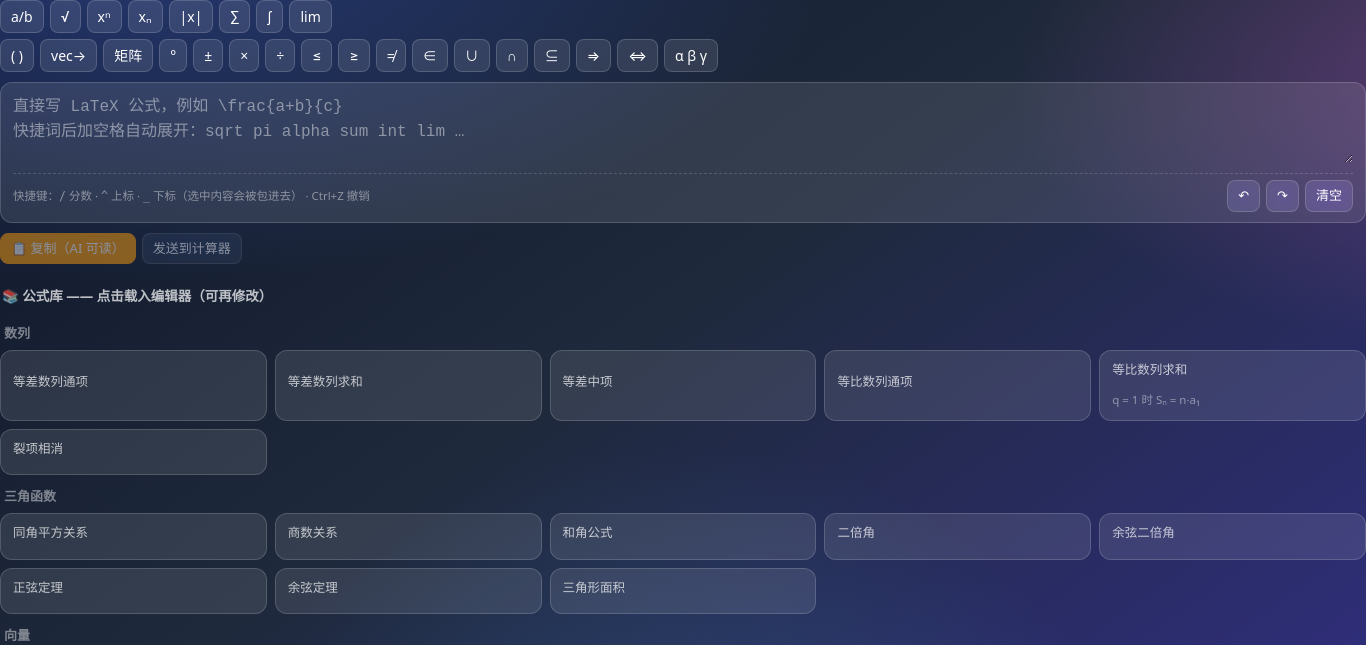
公式编辑器 › 点击分数按钮插入 \frac{}{} 模板
The width and height of the screenshot is (1366, 645).
Click the button titled "分数". click: (22, 16)
box: [0,0,44,33]
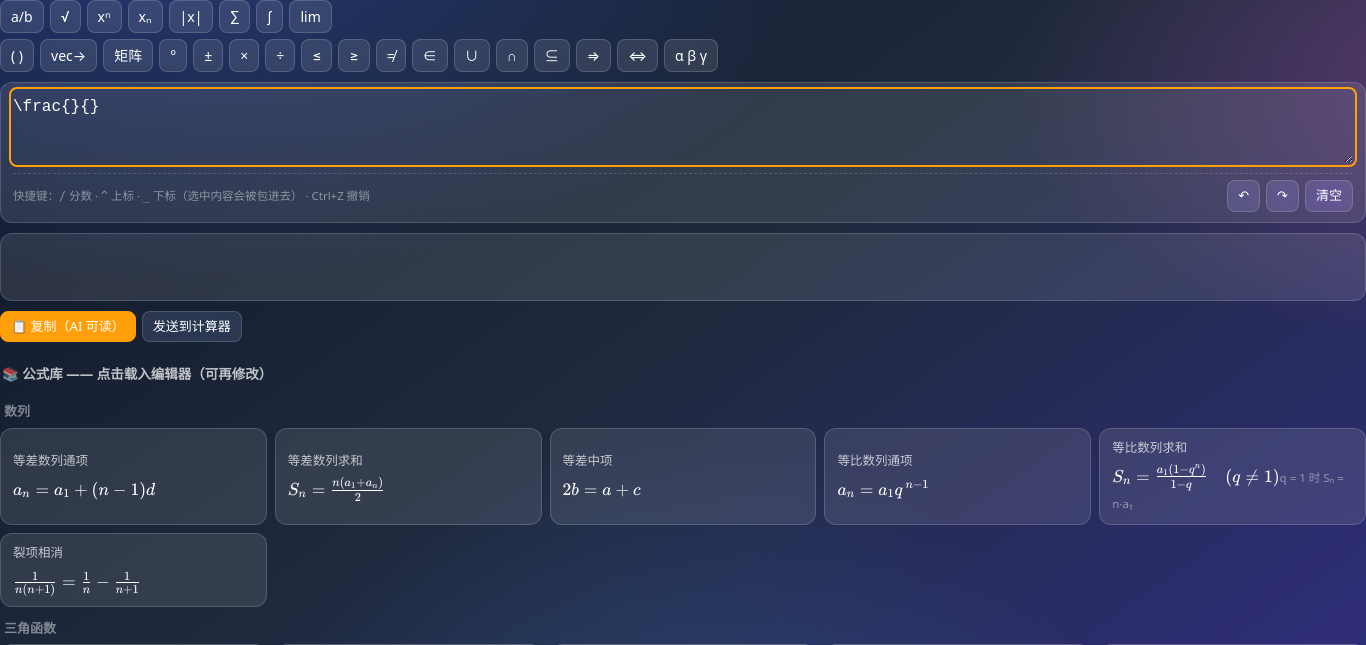
Now the text box named "公式源码输入" holds "\\frac{}{}", box [13,91,1353,163]
